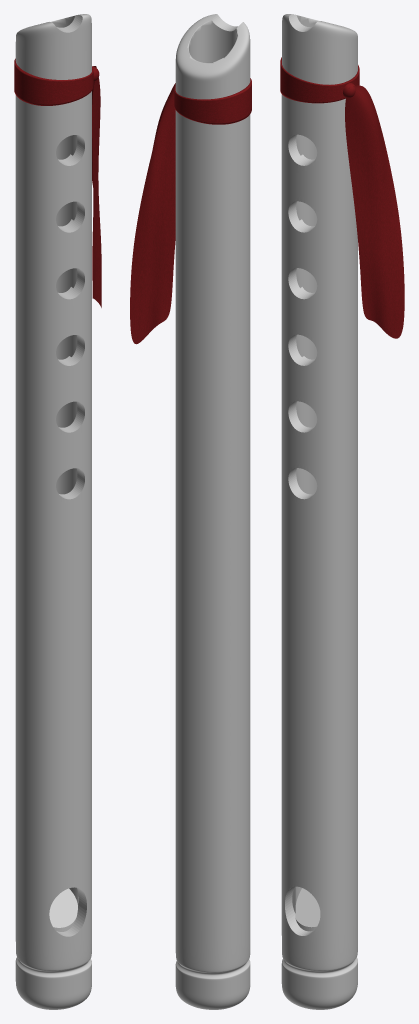
Rendered from bakweriFlute.gltf.
The picture shows the model from 3 angles, left to right: view 1: azimuth 30°, elevation 25°; view 2: azimuth 150°, elevation 25°; view 3: azimuth 330°, elevation 25°; orthographic projection. The views are drawn at different scales.
Visible parts, largest first — view 1: fluteBase, redThread, RedThread2; view 2: fluteBase, RedThread2, redThread; view 3: fluteBase, RedThread2, redThread.
Boxes of the visible parts, x1,y1,x2,y2 form: fluteBase: [15, 14, 91, 1009]; redThread: [14, 58, 93, 105]; RedThread2: [92, 66, 101, 307]; fluteBase: [175, 14, 250, 1009]; RedThread2: [130, 83, 175, 344]; redThread: [174, 78, 251, 124]; fluteBase: [281, 14, 357, 1009]; RedThread2: [343, 83, 404, 338]; redThread: [280, 57, 359, 103].
Bounding box in the file's own units: 0.4129 × 3.92 × 0.2771.
